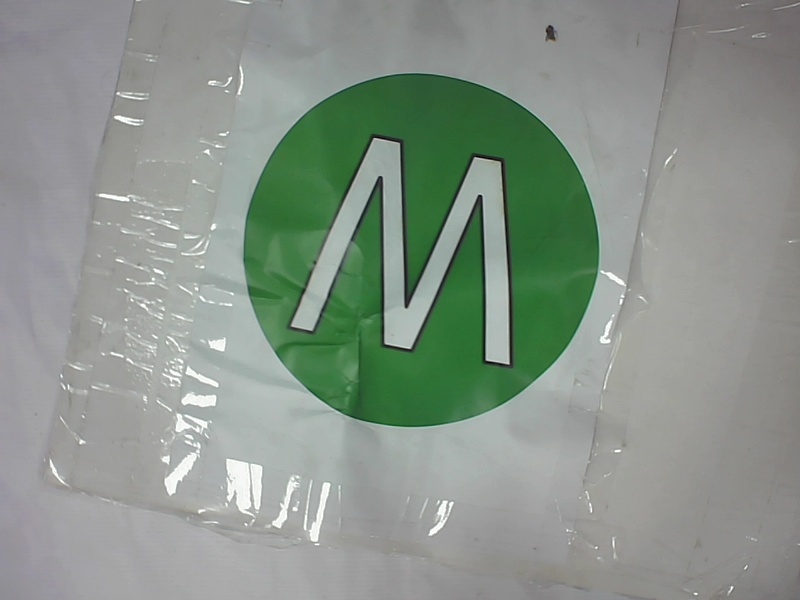areaB: (243, 65, 610, 438)
